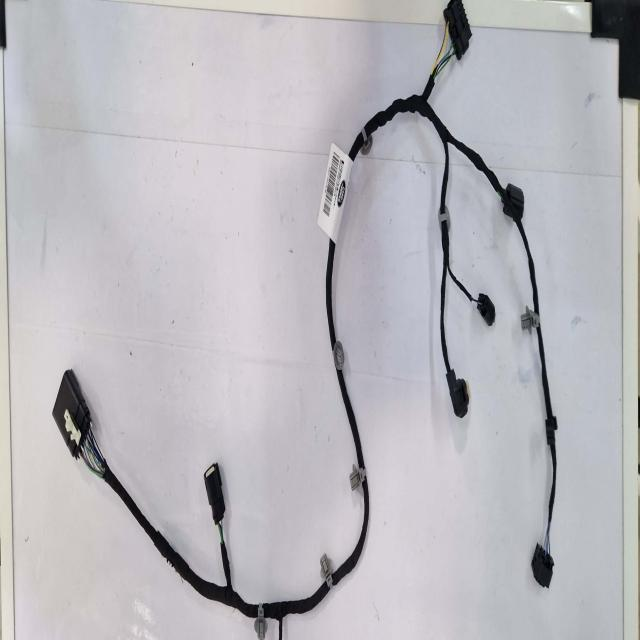Clip: (524, 301, 544, 328), (347, 453, 365, 477), (315, 543, 328, 576), (247, 598, 259, 633), (439, 206, 453, 231), (546, 415, 557, 445), (334, 326, 346, 353), (360, 123, 372, 150)
Connector: (51, 365, 88, 449), (441, 0, 471, 57), (203, 464, 224, 523), (447, 376, 471, 422), (532, 544, 554, 587), (501, 183, 525, 220), (475, 296, 495, 325)
Gape: (72, 414, 102, 476), (443, 5, 471, 56), (540, 520, 552, 557), (210, 502, 220, 532)
Info: (317, 145, 355, 242)
MHEV_N11_Cable: (69, 235, 369, 640), (346, 79, 507, 412), (540, 333, 556, 539), (518, 221, 538, 307)
